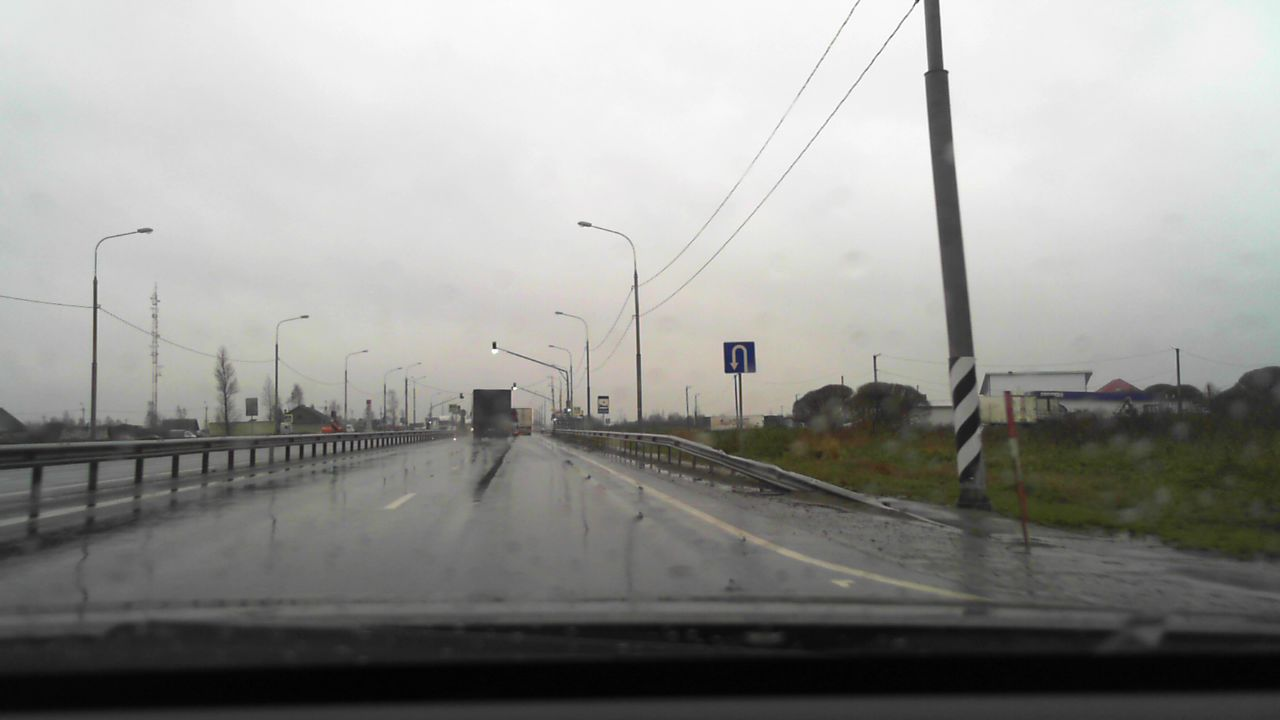U-turn: (723, 341, 756, 373)
